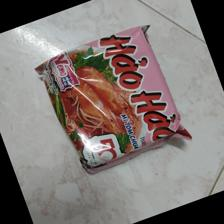Haohao: (31, 24, 194, 179)
